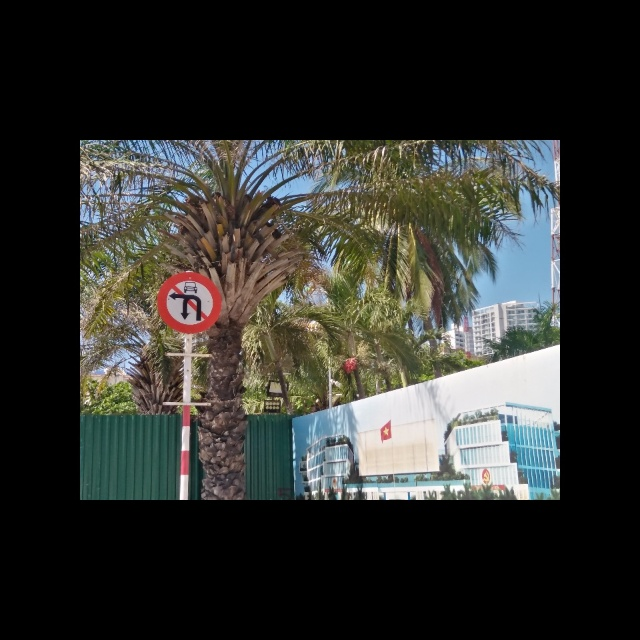Cấm xe ô tô quay đầu và rẽ trái: (154, 271, 224, 334)
